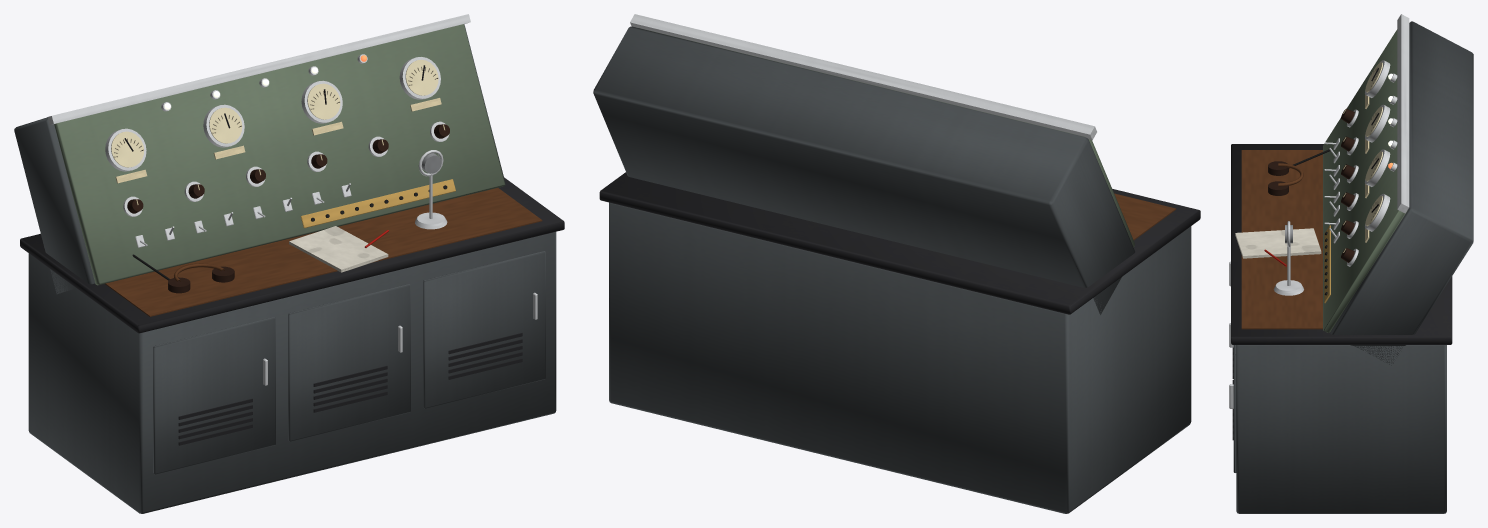
File: OB_Pulpit.fbx
3 views of the same model, side by side, from view 1: azimuth 30°, elevation 25°; view 2: azimuth 150°, elevation 25°; view 3: azimuth 270°, elevation 25° (orthographic). The views are drawn at different scales.
Visible parts, largest first — view 1: Pulpit; view 2: Pulpit; view 3: Pulpit.
Part boxes in pixels (bbox=[...]): Pulpit: bbox=[14, 14, 564, 513]; Pulpit: bbox=[593, 14, 1200, 513]; Pulpit: bbox=[1229, 14, 1473, 513].
Bounding box in the file's own units: 1.74 × 1.31 × 0.9267.
